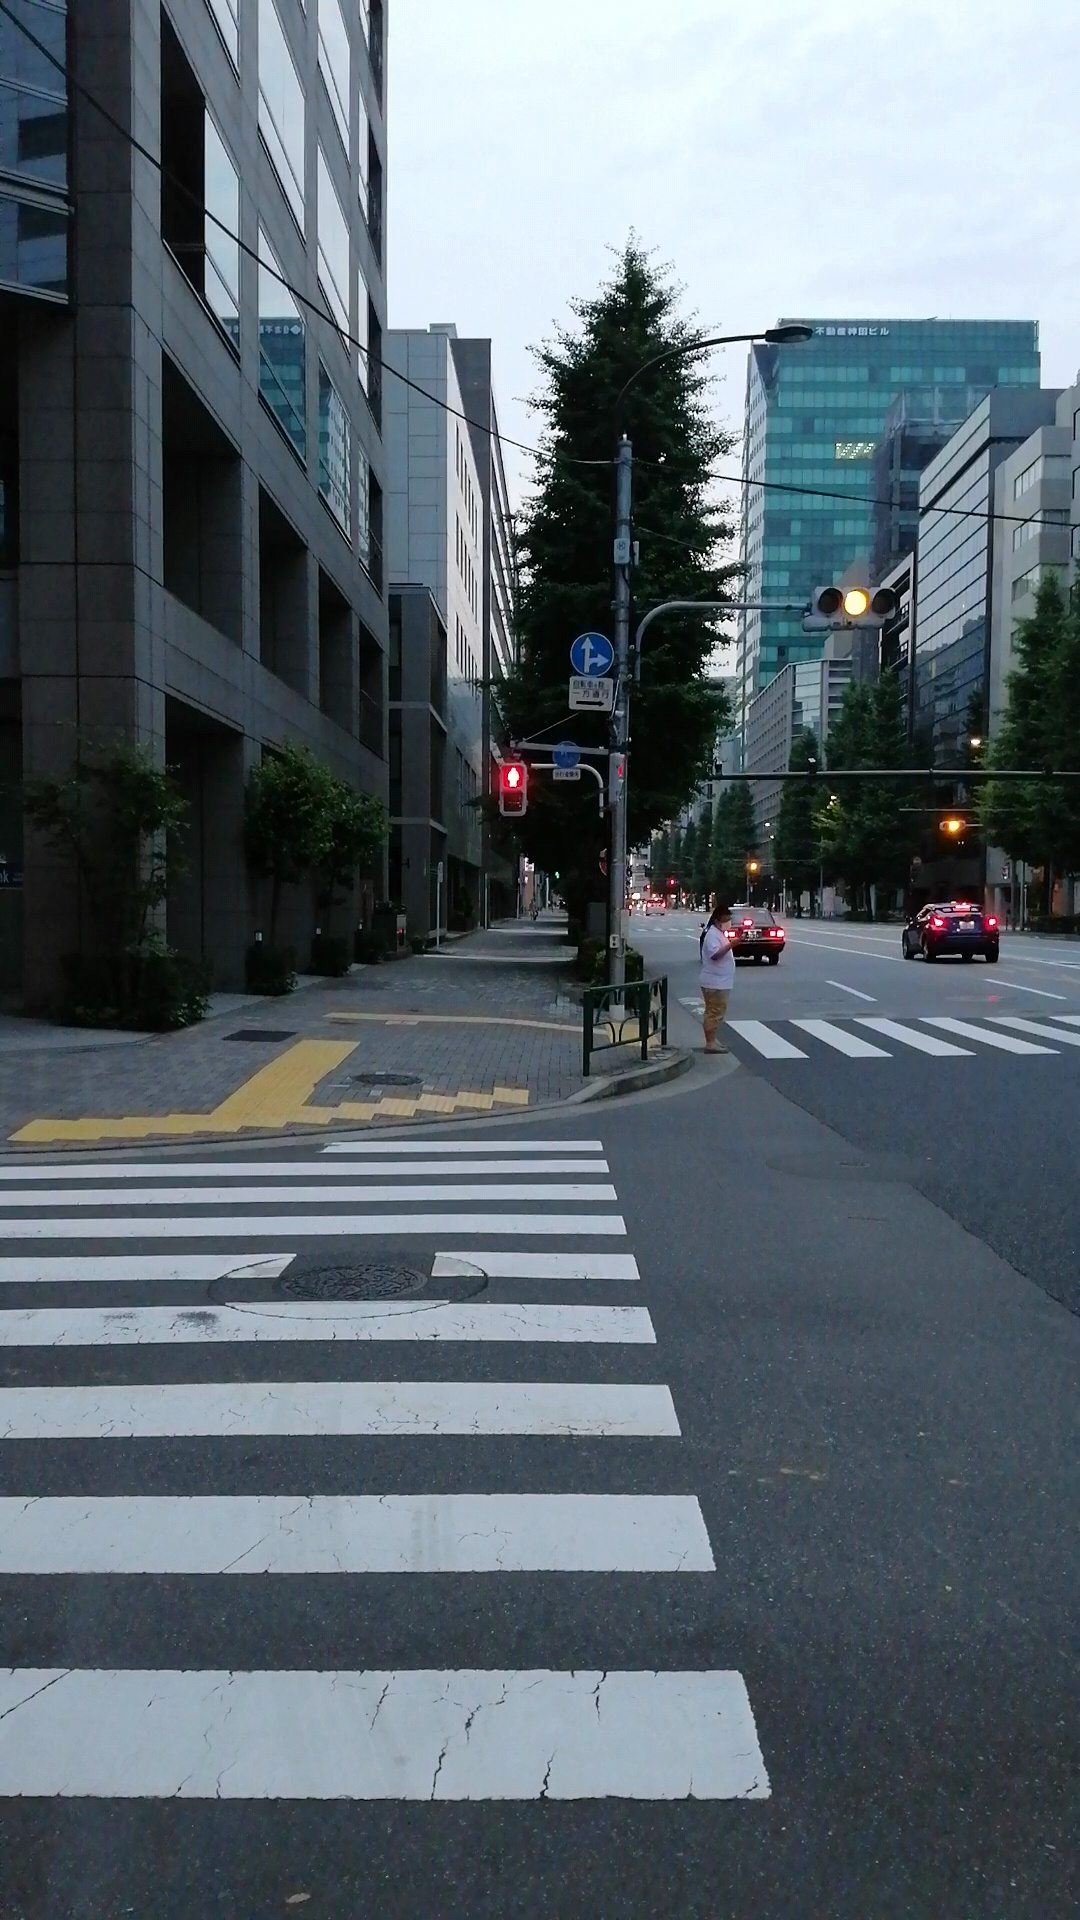red: (495, 758, 529, 820)
